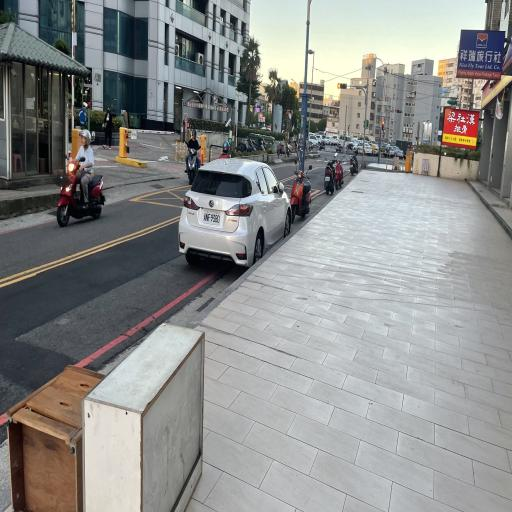MIU: (166, 222, 265, 296)
car: (174, 145, 297, 276)
redline: (0, 258, 220, 431)
